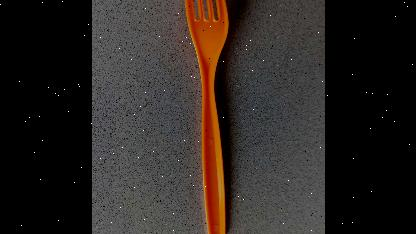Others: (177, 0, 229, 234)
